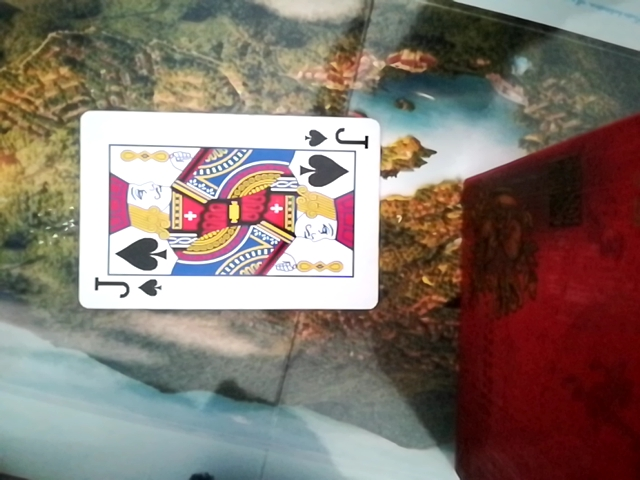ht j: (69, 108, 387, 308)
